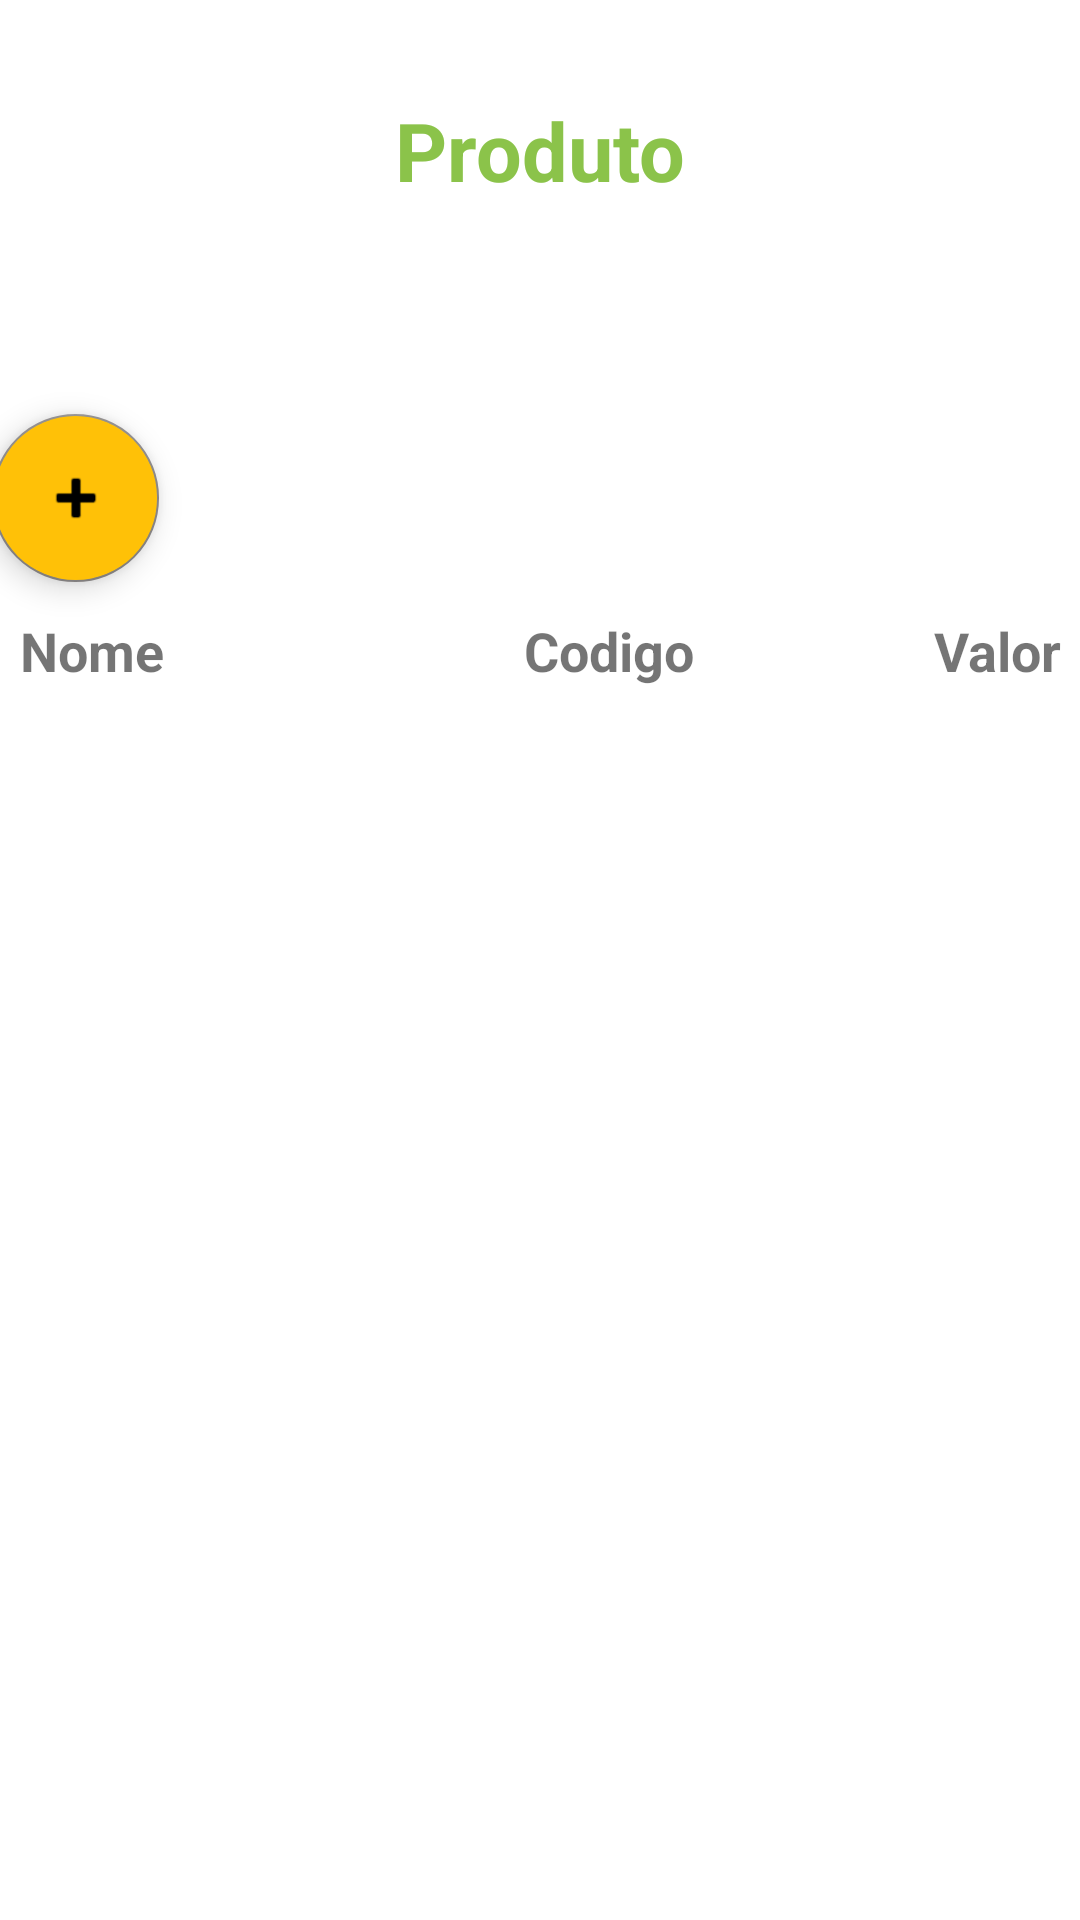

Icon bounding boxes for this 1080w x 1920h phone screenshot, format Rect(x1, y1, x2, y2):
Botao: Rect(0, 414, 159, 582)
